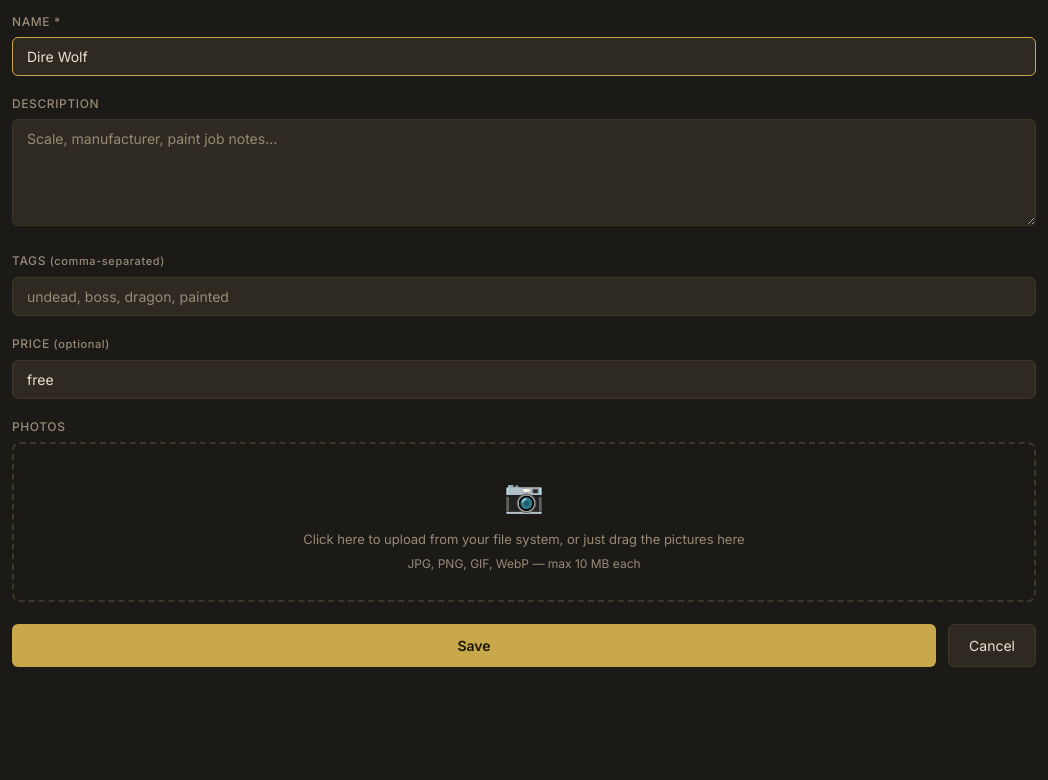
Test case: MiniForm › rejects a non-numeric price
This screenshot has width=1048, height=780.
What coordinates should you click on to do the following:
click the button "Save"
I would click on:
 (474, 645)
Its box is top-left (12, 624), bottom-right (936, 667).
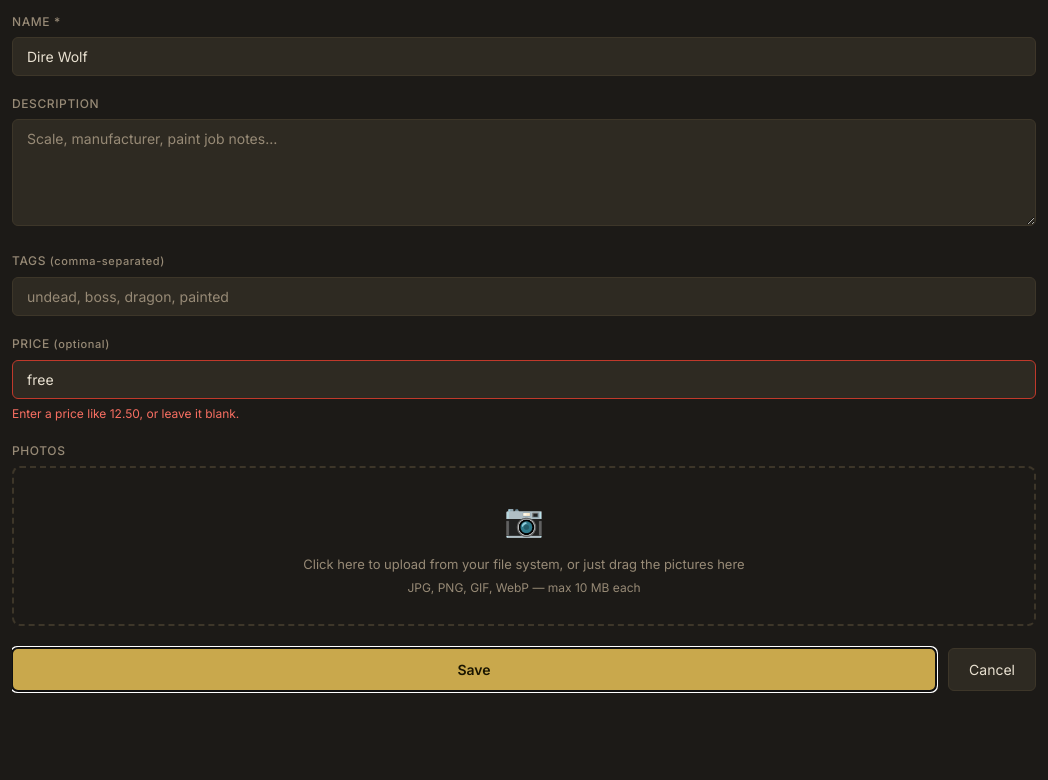
Check: the text "Enter a price like 12.50, or leave it blank." is shown, box top-left (12, 406), bottom-right (239, 421)
